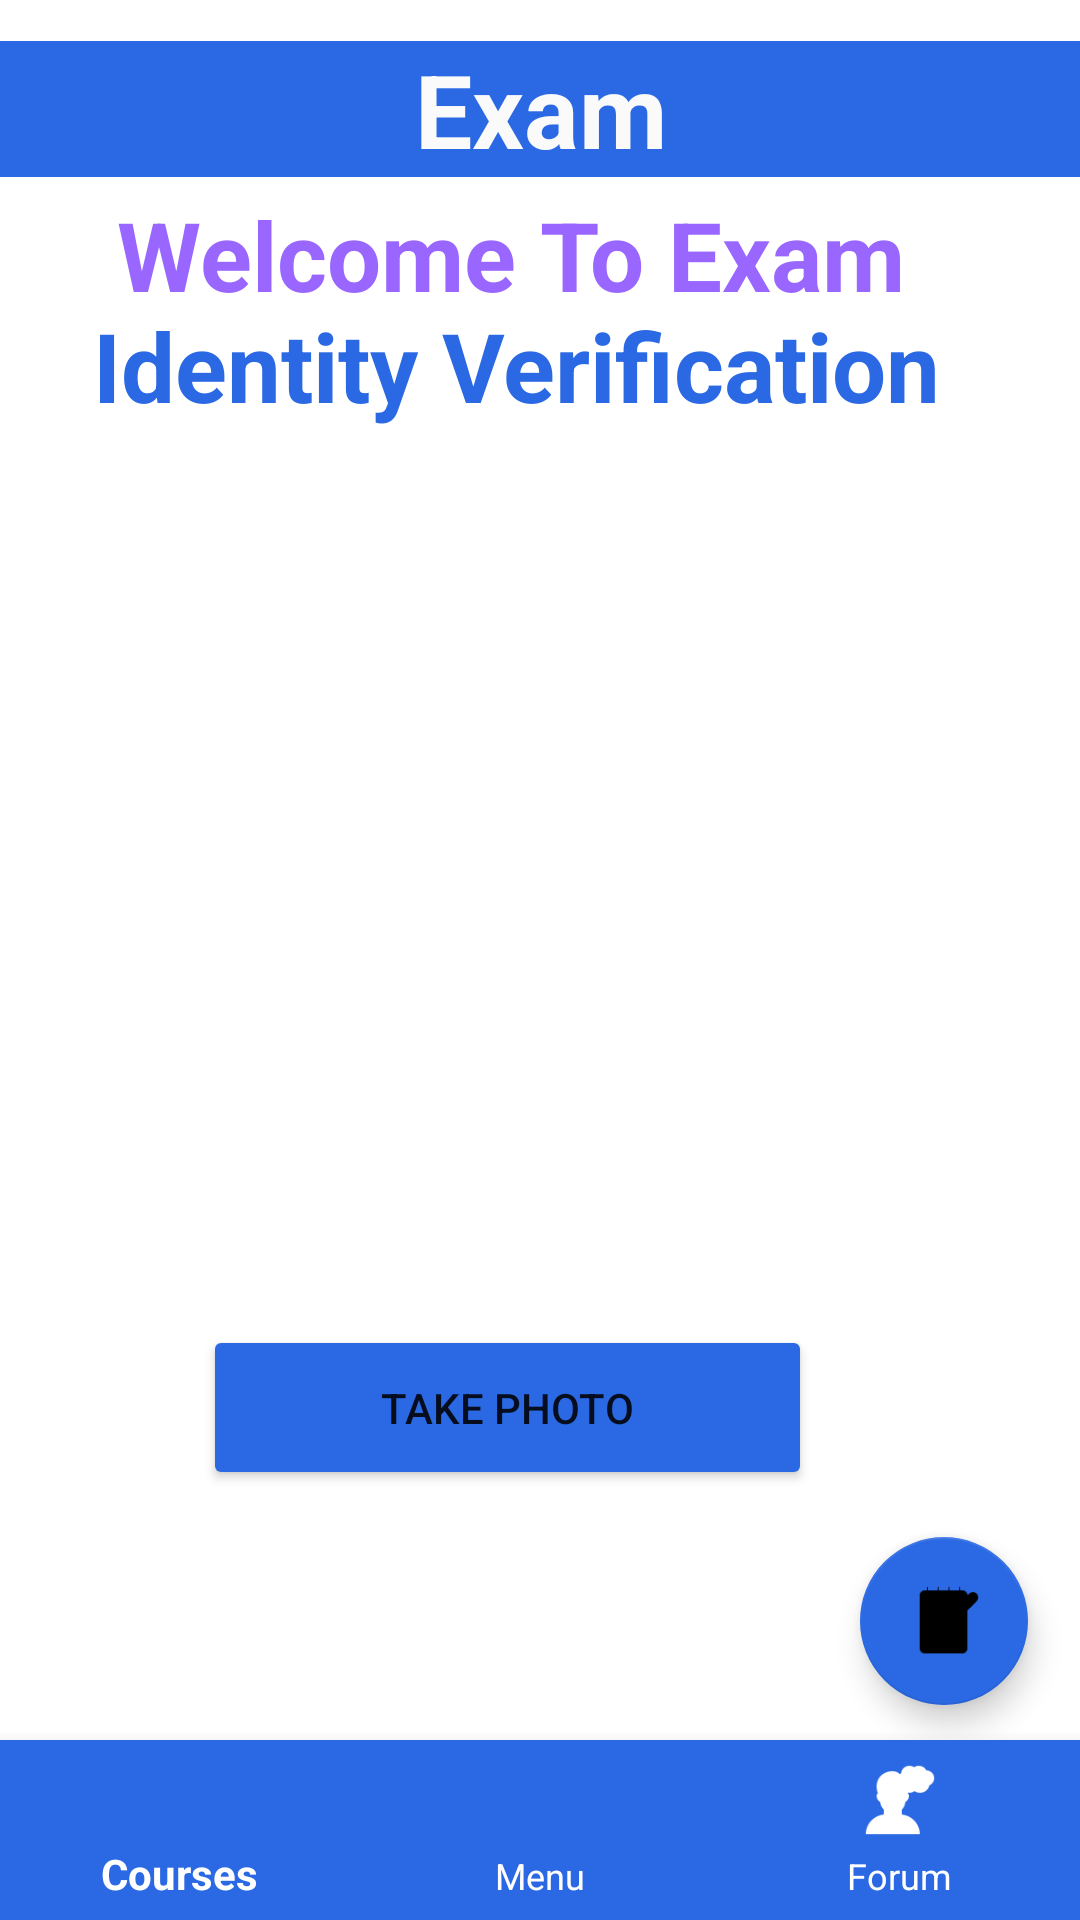

Where icons sit on this 1080x1920 app screen, as box=[x1, y1, x2, y2]:
note: box=[860, 1537, 1028, 1705]
